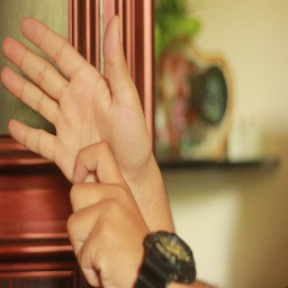R: (3, 16, 150, 263)
